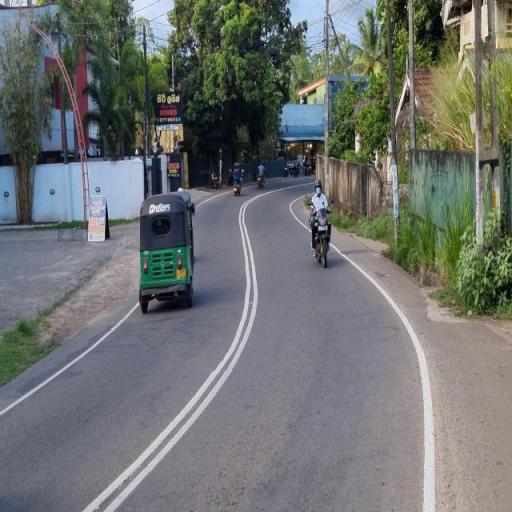double_white_line: (80, 192, 257, 512)
